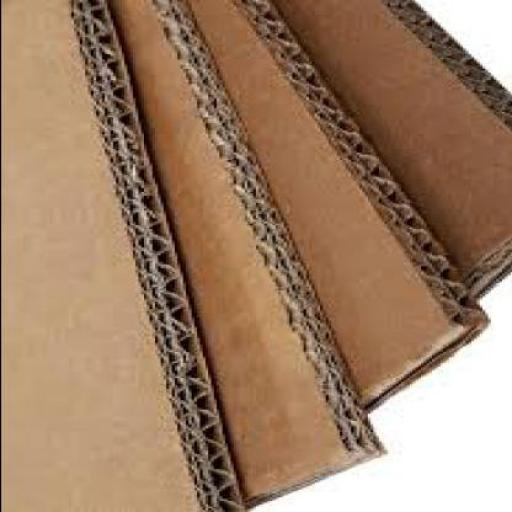cardboard: (103, 0, 384, 511), (184, 0, 487, 412), (2, 0, 242, 511), (268, 0, 510, 298)
